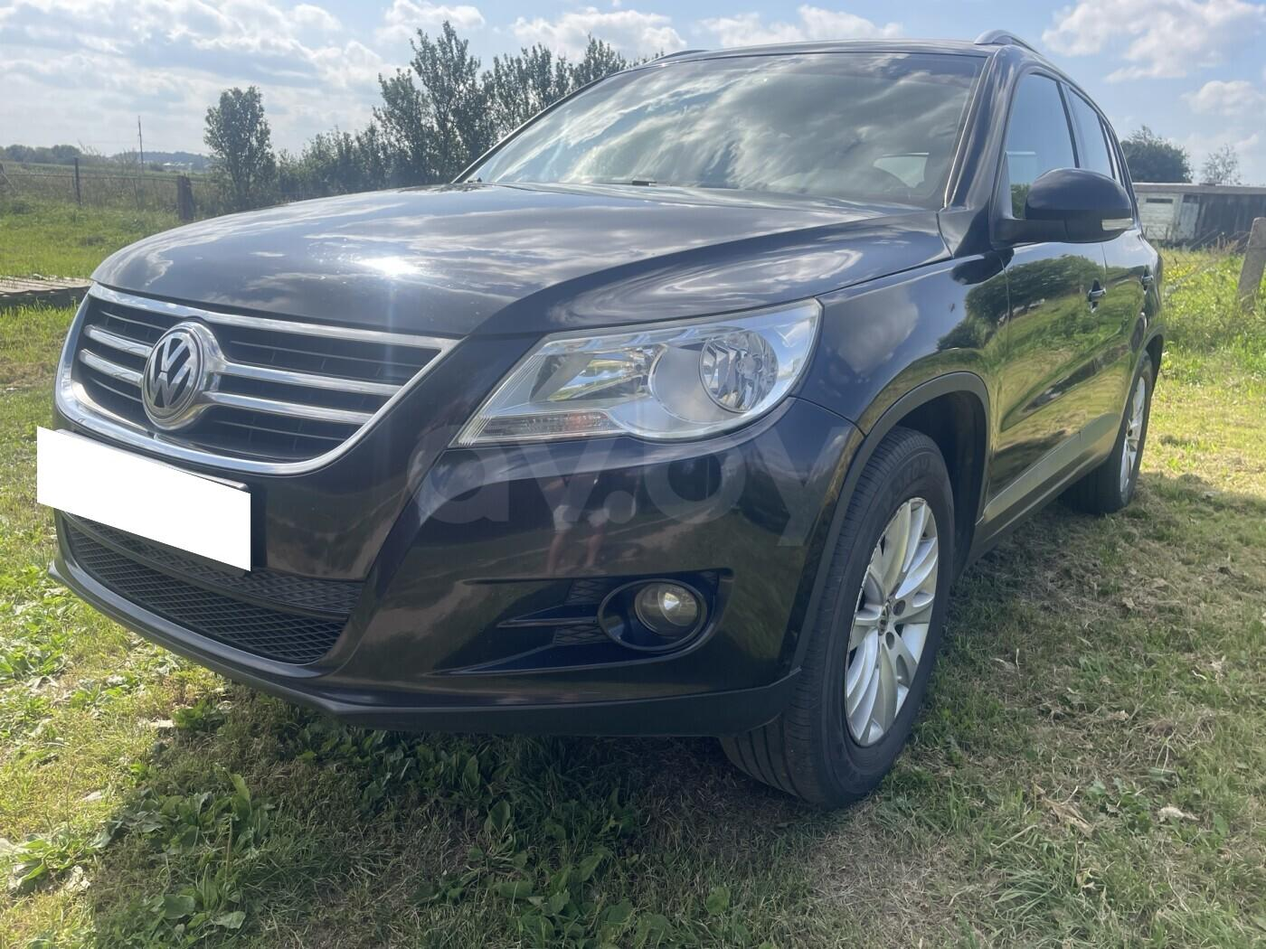Tiguan_2007-2011: (28, 37, 1157, 794)
